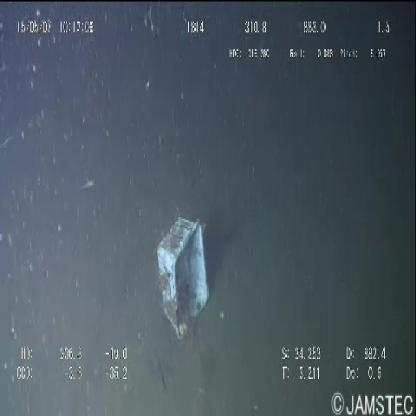Rác: (150, 210, 215, 344)
